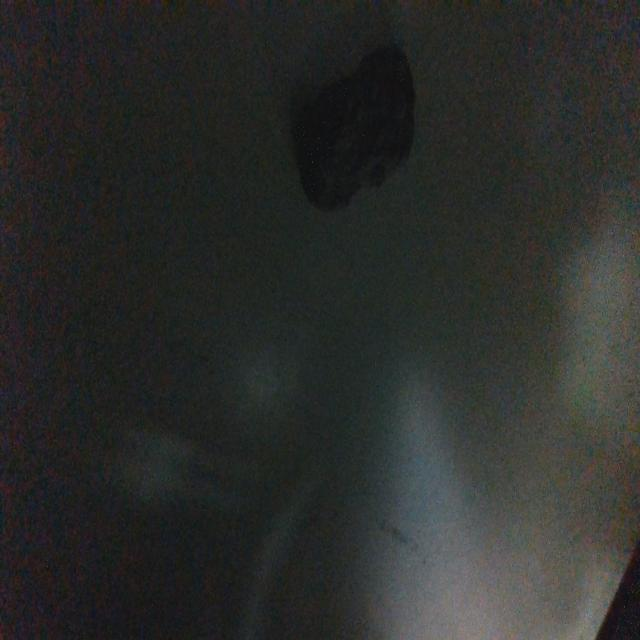stone: (296, 38, 418, 214)
